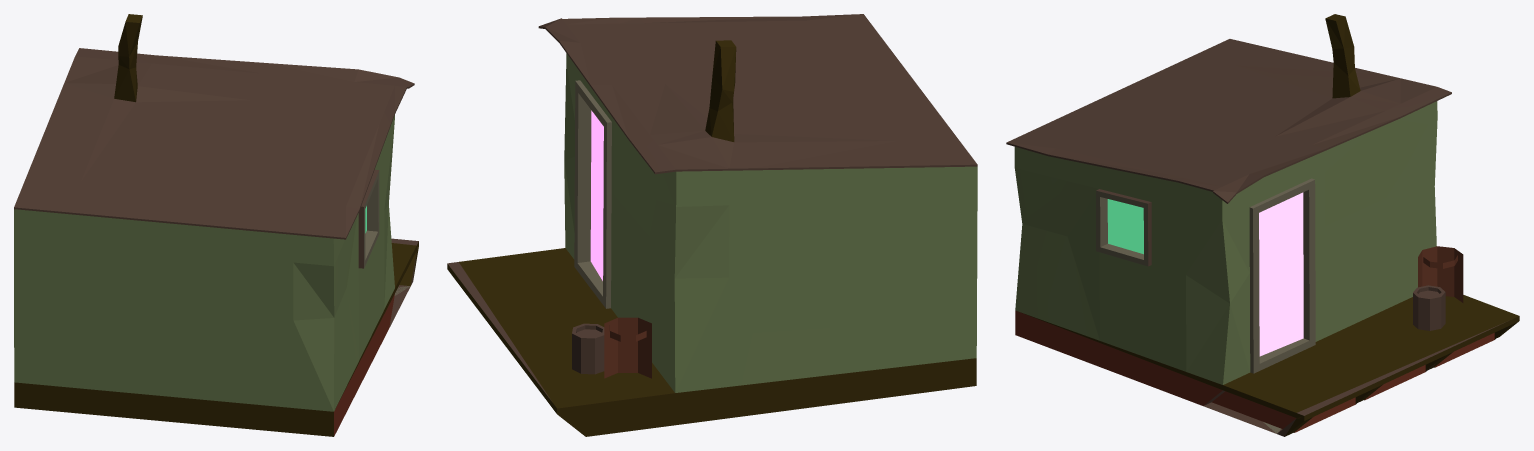
Rendered from MINIBAJTA.glb.
3 renders of one model, left to right at view 1: azimuth 30°, elevation 25°; view 2: azimuth 150°, elevation 25°; view 3: azimuth 270°, elevation 25°, orthographic. The views are drawn at different scales.
Visible parts, largest first — view 1: Plane.004; view 2: Plane.004; view 3: Plane.004.
Boxes of the visible parts, x1,y1,x2,y2 form: Plane.004: [14, 14, 418, 436]; Plane.004: [447, 14, 977, 436]; Plane.004: [1006, 14, 1519, 436].
Size of the model in its own units: 5.56 by 3.7 by 5.71.
